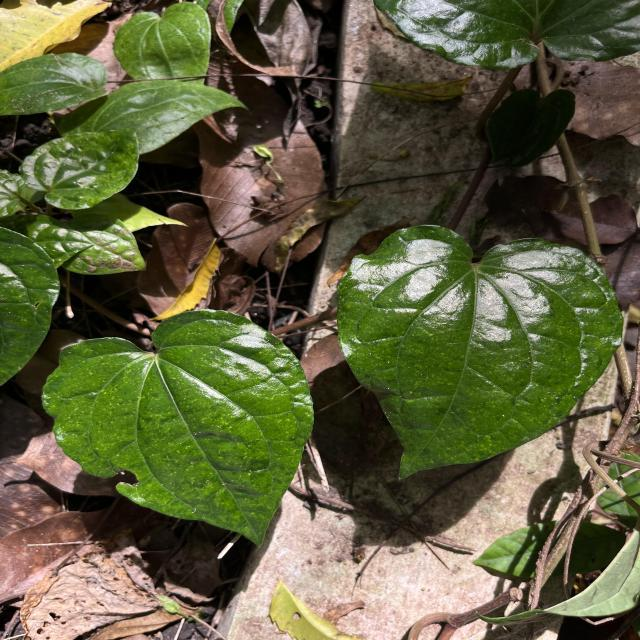Piper betle: (332, 220, 628, 484), (36, 302, 318, 554)
